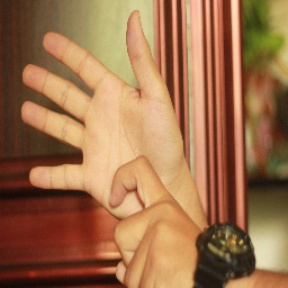R: (23, 9, 197, 288)
